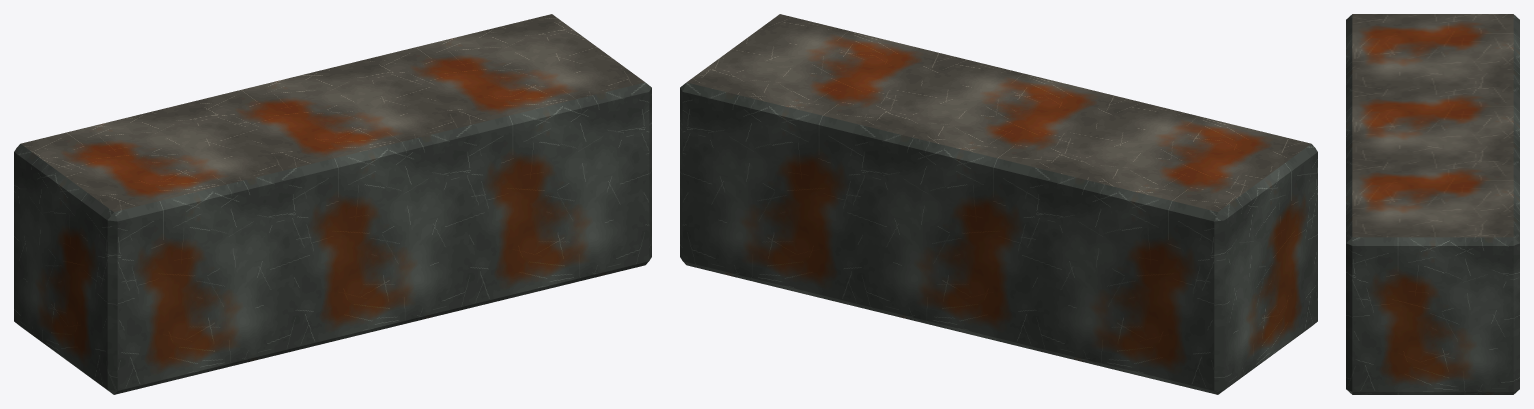
File: R4B_Beam3_LOD1.glb
3 views of the same model, side by side, from view 1: azimuth 30°, elevation 25°; view 2: azimuth 150°, elevation 25°; view 3: azimuth 270°, elevation 25° (orthographic). The views are drawn at different scales.
Visible parts, largest first — view 1: R4B_Beam3_LOD1; view 2: R4B_Beam3_LOD1; view 3: R4B_Beam3_LOD1.
Boxes of the visible parts, box(x1,y1,x2,y2) form: R4B_Beam3_LOD1: box(14, 14, 651, 394); R4B_Beam3_LOD1: box(680, 14, 1317, 394); R4B_Beam3_LOD1: box(1346, 14, 1519, 394).
Size of the model in its own units: 1.62 by 0.52 by 0.52.
2 materials, 2 textured.
